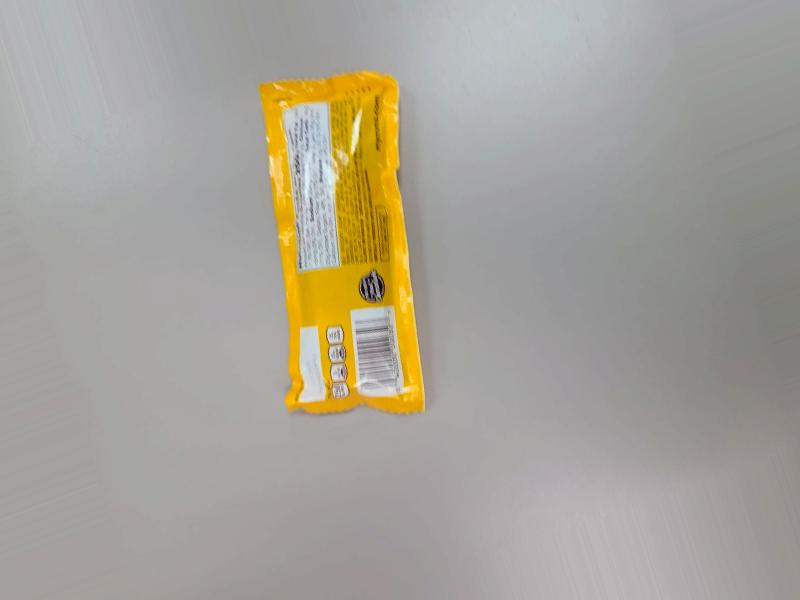m&m: (239, 63, 437, 453)
